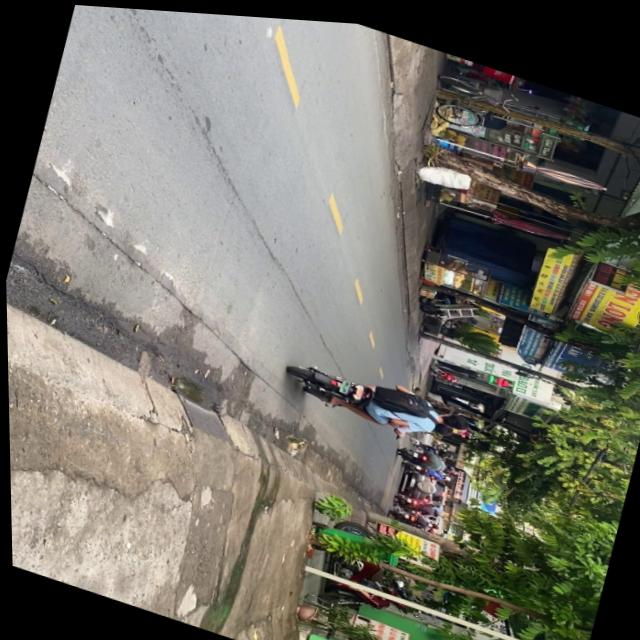licenseplate: (282, 345, 478, 449)
motorcyclist: (433, 400, 471, 426)
